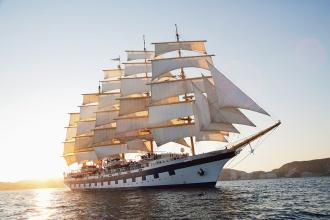fanchuan: (61, 30, 285, 194)
